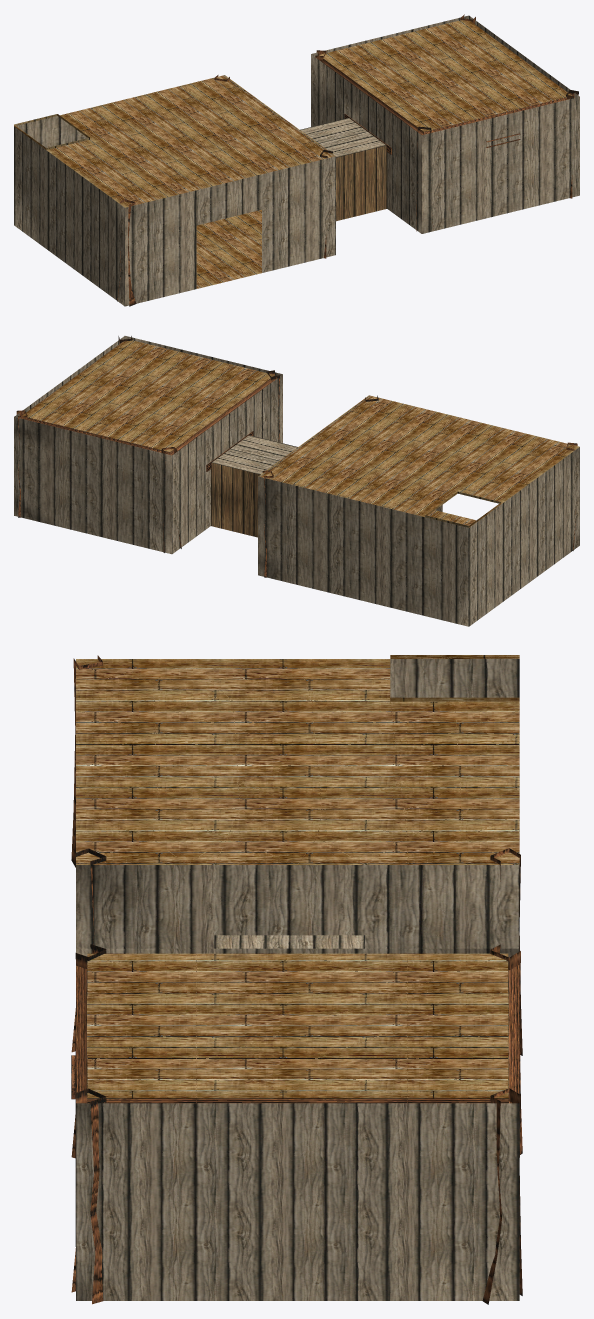
The model's file is LAKETOWN_PUB_PS_PUB_CELLAR5756__GX.obj.
3 views of the same model, one above another, from view 1: azimuth 30°, elevation 25°; view 2: azimuth 150°, elevation 25°; view 3: azimuth 270°, elevation 25° (orthographic). The views are drawn at different scales.
Visible parts, largest first — view 1: _cellar5756__GX; view 2: _cellar5756__GX; view 3: _cellar5756__GX.
Boxes of the visible parts, x1,y1,x2,y2 form: _cellar5756__GX: [14, 14, 579, 306]; _cellar5756__GX: [14, 336, 579, 626]; _cellar5756__GX: [71, 655, 522, 1304].
Bounding box in the file's own units: 1542 × 324 × 656.
